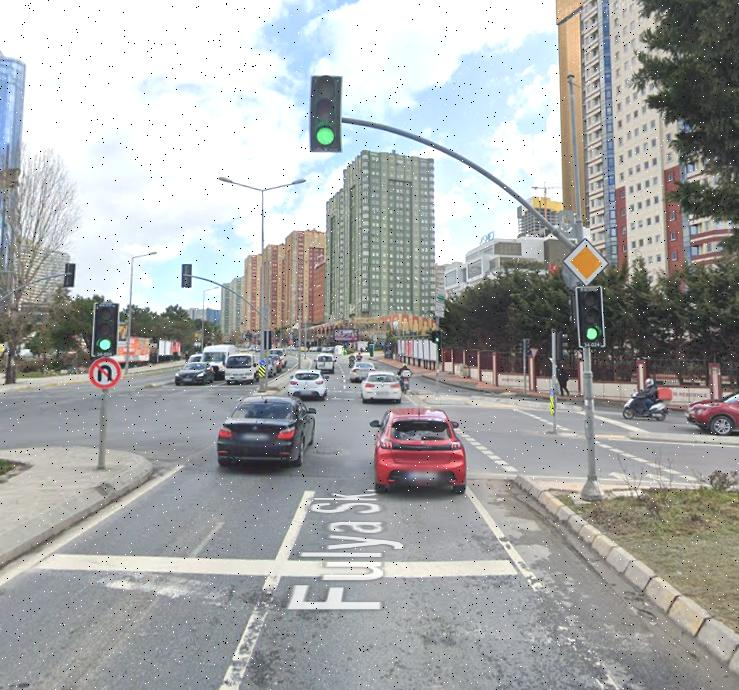greenlight: (309, 73, 343, 152), (91, 299, 120, 359), (576, 283, 603, 347)
